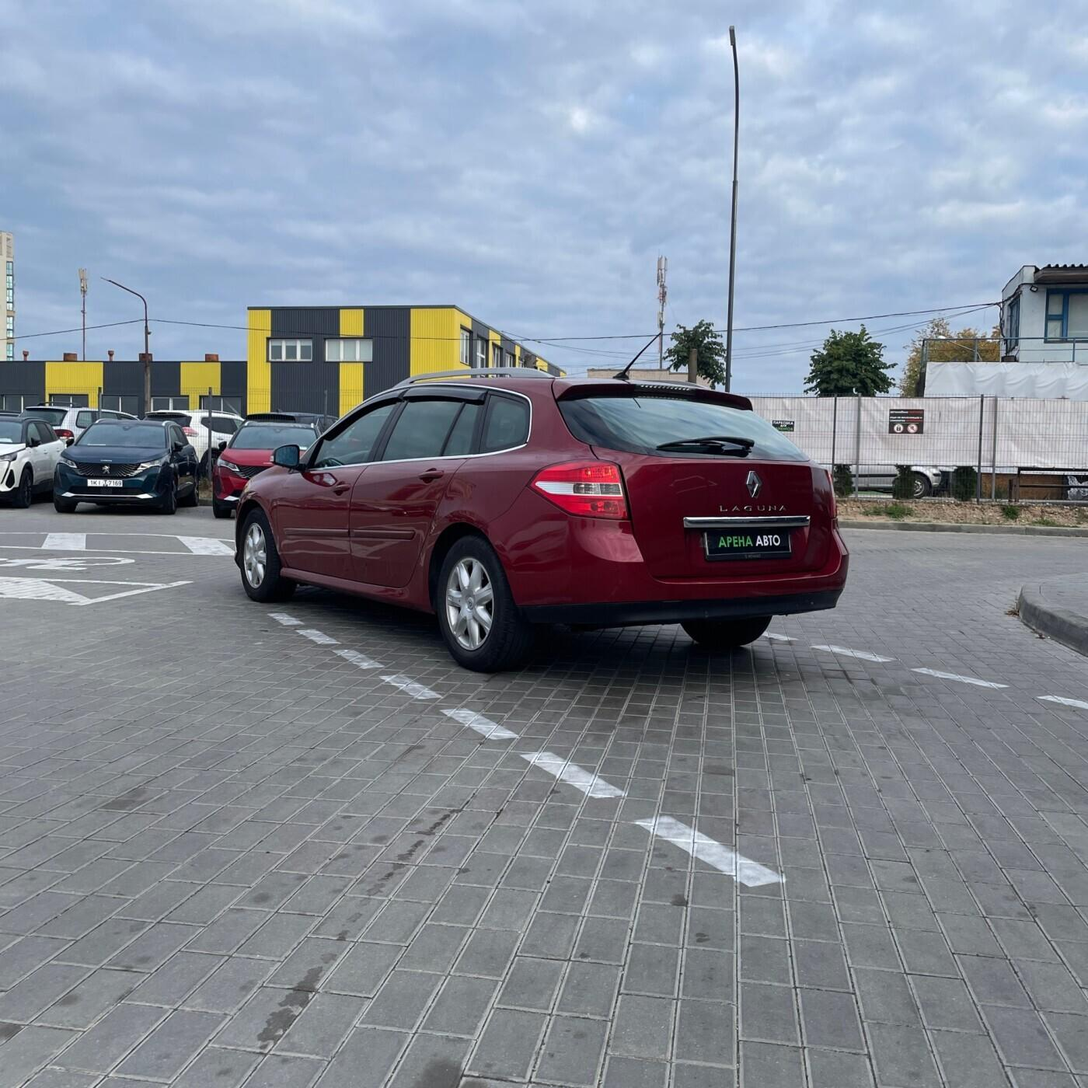Laguna_2007-2011: (235, 368, 848, 672)
